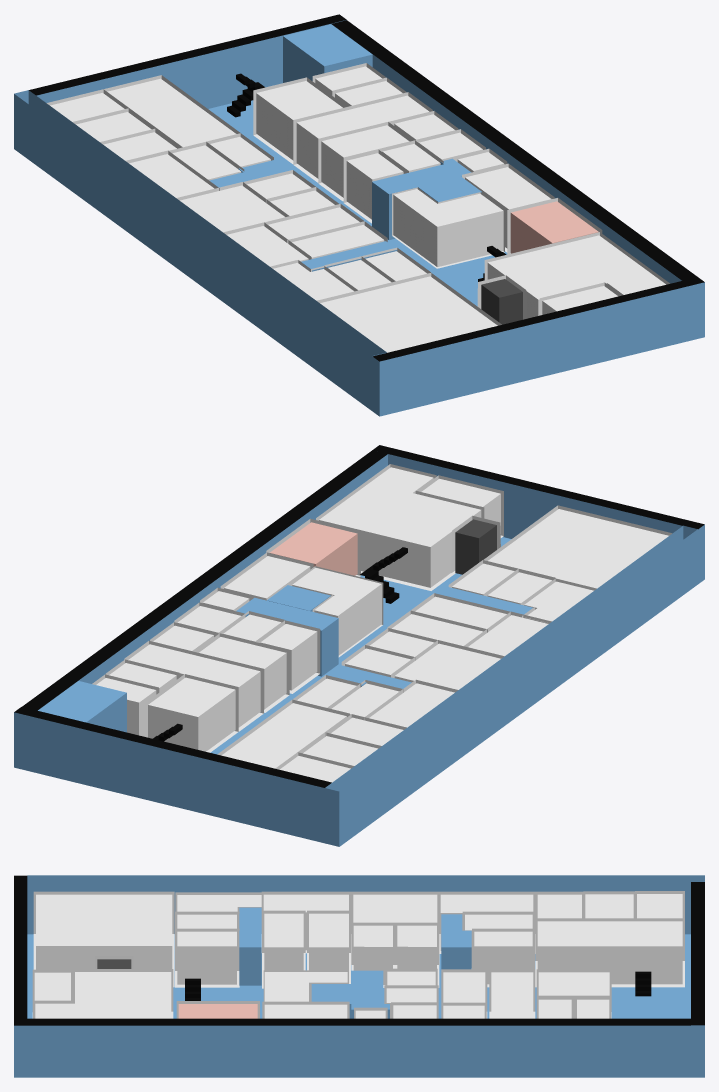
3 views of the same model, one above another, from view 1: azimuth 30°, elevation 25°; view 2: azimuth 150°, elevation 25°; view 3: azimuth 270°, elevation 25° (orthographic). The views are drawn at different scales.
Visible parts, largest first — view 1: object, room_4_4_19, room_4_4_18, room_4_4_28, room_4_4_14, room_4_4_13, room_4_4_15, トイレ_4_4_1, room_4_4_16, room_4_4_25, room_4_4_27, room_4_4_26 (+28 smaller); view 2: object, room_4_4_18, room_4_4_19, room_4_4_15, room_4_4_28, room_4_4_14, room_4_4_13, トイレ_4_4_1, room_4_4_16, room_4_4_25, room_4_4_27, room_4_4_26 (+27 smaller); view 3: object, room_4_4_19, room_4_4_14, room_4_4_18, room_4_4_22, room_4_4_16, room_4_4_24, room_4_4_9, room_4_4_8, room_4_4_13, room_4_4_28, room_4_4_10 (+43 smaller).
Boxes of the visible parts, bbox=[...] form: object: bbox=[14, 14, 704, 416]; room_4_4_19: bbox=[320, 276, 497, 352]; room_4_4_18: bbox=[487, 235, 665, 318]; room_4_4_28: bbox=[393, 189, 503, 266]; room_4_4_14: bbox=[107, 78, 236, 147]; room_4_4_13: bbox=[296, 95, 429, 178]; room_4_4_15: bbox=[256, 81, 342, 160]; トイレ_4_4_1: bbox=[510, 201, 598, 253]; room_4_4_16: bbox=[180, 185, 284, 232]; room_4_4_25: bbox=[321, 125, 409, 197]; room_4_4_27: bbox=[465, 167, 551, 248]; room_4_4_26: bbox=[346, 153, 403, 219]; object: bbox=[14, 445, 704, 846]; room_4_4_18: bbox=[319, 467, 481, 587]; room_4_4_19: bbox=[488, 509, 668, 588]; room_4_4_15: bbox=[148, 677, 235, 751]; room_4_4_28: bbox=[292, 567, 381, 655]; room_4_4_14: bbox=[221, 703, 346, 768]; room_4_4_13: bbox=[128, 644, 260, 727]; トイレ_4_4_1: bbox=[270, 522, 357, 575]; room_4_4_16: bbox=[394, 643, 500, 689]; room_4_4_25: bbox=[199, 637, 286, 709]; room_4_4_27: bbox=[224, 556, 310, 600]; room_4_4_26: bbox=[260, 624, 317, 690]; object: bbox=[14, 875, 704, 1077]; room_4_4_19: bbox=[36, 894, 172, 969]; room_4_4_14: bbox=[537, 921, 682, 984]; room_4_4_18: bbox=[35, 972, 171, 1018]; room_4_4_22: bbox=[177, 931, 236, 984]; room_4_4_16: bbox=[353, 894, 437, 922]; room_4_4_24: bbox=[474, 931, 532, 984]; room_4_4_9: bbox=[309, 913, 348, 983]; room_4_4_8: bbox=[264, 913, 303, 970]; room_4_4_13: bbox=[491, 972, 533, 1018]; room_4_4_28: bbox=[264, 972, 347, 1001]; room_4_4_10: bbox=[353, 925, 392, 984].
Size of the model in its own units: 0.9939 by 0.1627 by 1.93.
